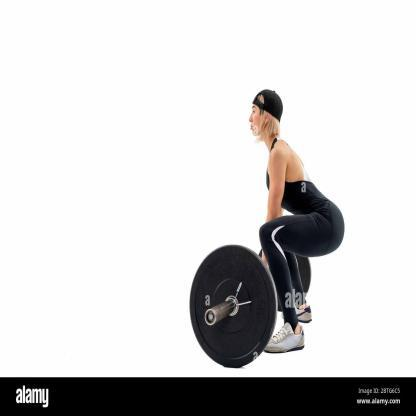Barbell: (176, 237, 284, 372)
